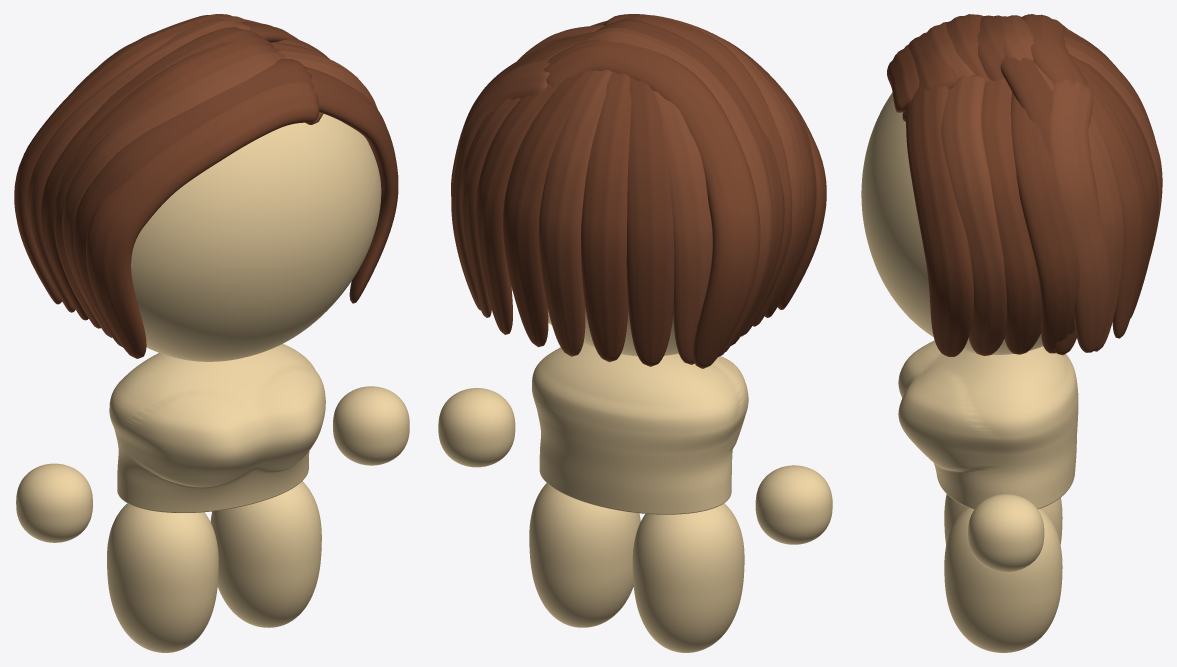
The model's file is Feminine-hair.glb.
3 views of the same model, side by side, from view 1: azimuth 30°, elevation 25°; view 2: azimuth 150°, elevation 25°; view 3: azimuth 270°, elevation 25° (orthographic).
Visible parts, largest first — view 1: Skin / soft oval head, Skin / rounded torso, Hair / Bob / side sweep 0, Skin / leg blob -1, Skin / leg blob 1, Hair / Bob / side sweep 1, Hair / Bob / side sweep 2, Hair / Bob / side sweep 3, Hair / Bob / side sweep 7, Hair / Bob / side sweep 6, Hair / Bob / side sweep 5, Skin / orb hand 1 (+4 smaller); view 2: Skin / rounded torso, Hair / Bob / side sweep 6, Skin / leg blob -1, Skin / leg blob 1, Hair / Bob / side sweep 19, Hair / Bob / side sweep 18, Hair / Bob / side sweep 17, Hair / Bob / side sweep 16, Hair / Bob / side sweep 20, Hair / Bob / side sweep 15, Hair / Bob / side sweep 5, Skin / orb hand -1 (+11 smaller); view 3: Skin / rounded torso, Hair / Bob / side sweep 7, Skin / leg blob 1, Skin / soft oval head, Hair / Bob / side sweep 8, Hair / Bob / side sweep 11, Hair / Bob / side sweep 10, Hair / Bob / side sweep 9, Hair / Bob / side sweep 15, Skin / orb hand 1, Hair / Bob / side sweep 14, Hair / Bob / side sweep 16 (+11 smaller).
Boxes of the visible parts, x1,y1,x2,y2 form: Skin / soft oval head: [131, 114, 381, 361]; Skin / rounded torso: [109, 344, 325, 512]; Hair / Bob / side sweep 0: [86, 82, 323, 358]; Skin / leg blob -1: [107, 503, 218, 652]; Skin / leg blob 1: [210, 481, 321, 627]; Hair / Bob / side sweep 1: [73, 59, 313, 347]; Hair / Bob / side sweep 2: [62, 51, 286, 337]; Hair / Bob / side sweep 3: [54, 39, 277, 328]; Hair / Bob / side sweep 7: [306, 67, 398, 303]; Hair / Bob / side sweep 6: [14, 14, 248, 304]; Hair / Bob / side sweep 5: [27, 18, 250, 312]; Skin / orb hand 1: [333, 386, 409, 465]; Skin / rounded torso: [532, 343, 748, 514]; Hair / Bob / side sweep 6: [544, 39, 760, 368]; Skin / leg blob -1: [632, 503, 744, 652]; Skin / leg blob 1: [529, 483, 640, 627]; Hair / Bob / side sweep 19: [626, 77, 674, 366]; Hair / Bob / side sweep 18: [581, 71, 631, 362]; Hair / Bob / side sweep 17: [538, 69, 612, 356]; Hair / Bob / side sweep 16: [503, 70, 592, 347]; Hair / Bob / side sweep 20: [653, 90, 712, 364]; Hair / Bob / side sweep 15: [475, 82, 561, 334]; Hair / Bob / side sweep 5: [582, 27, 773, 356]; Skin / orb hand -1: [755, 465, 832, 544]; Skin / rounded torso: [898, 340, 1078, 509]; Hair / Bob / side sweep 7: [906, 85, 973, 356]; Skin / leg blob 1: [944, 507, 1062, 652]; Skin / soft oval head: [861, 92, 1043, 354]; Hair / Bob / side sweep 8: [941, 75, 1007, 355]; Hair / Bob / side sweep 11: [1049, 79, 1111, 352]; Hair / Bob / side sweep 10: [1010, 92, 1079, 353]; Hair / Bob / side sweep 9: [982, 78, 1041, 354]; Hair / Bob / side sweep 15: [1083, 75, 1146, 338]; Skin / orb hand 1: [968, 494, 1044, 571]; Hair / Bob / side sweep 14: [1035, 64, 1124, 351]; Hair / Bob / side sweep 16: [1069, 54, 1158, 318].
Bounding box in the file's own units: 1.23 × 1.86 × 0.8526.
